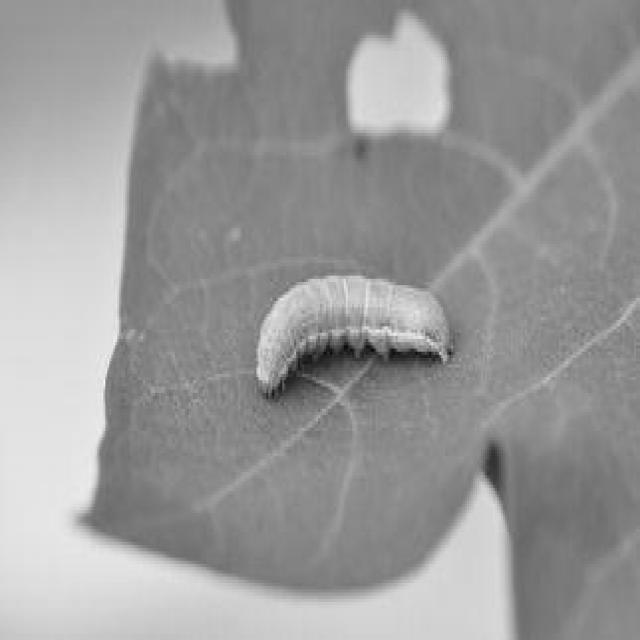BeetArmyWorm-Larva-: (252, 269, 464, 402)
